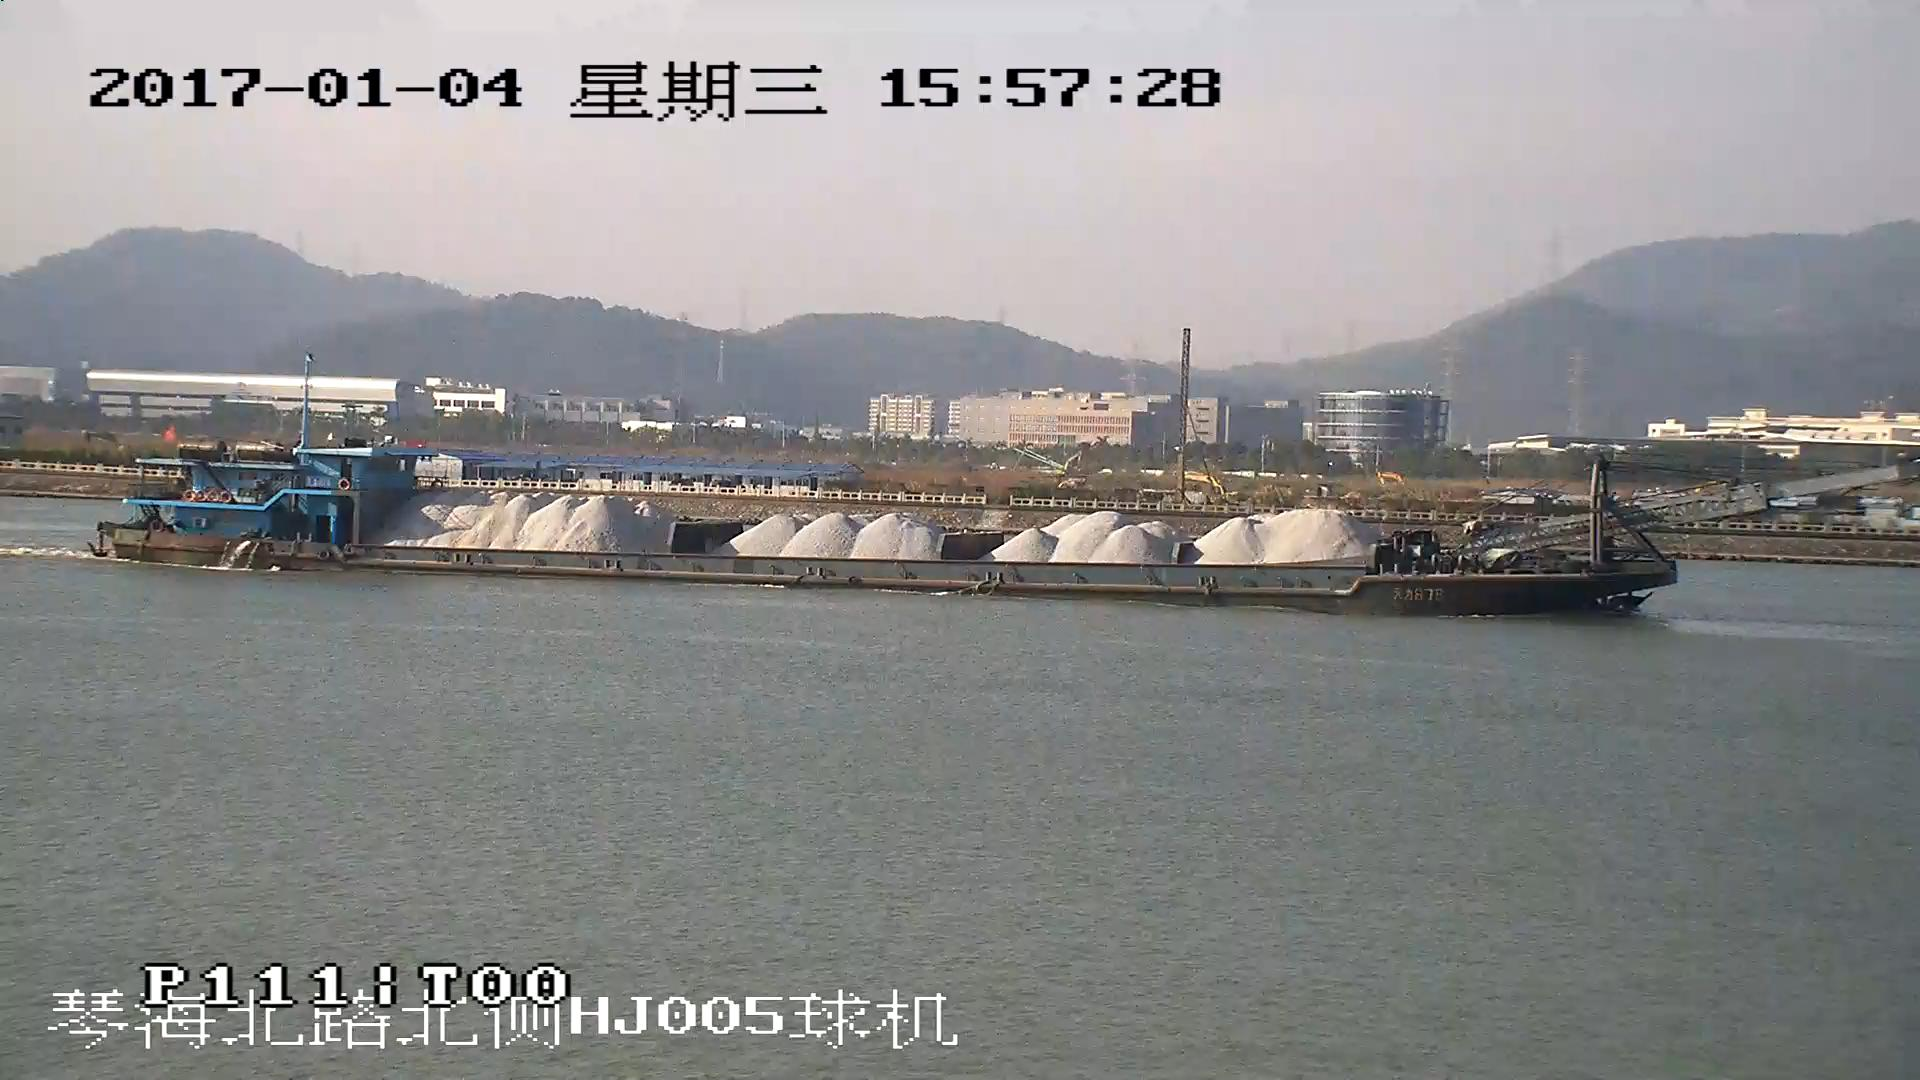ore carrier: (87, 438, 1905, 610)
